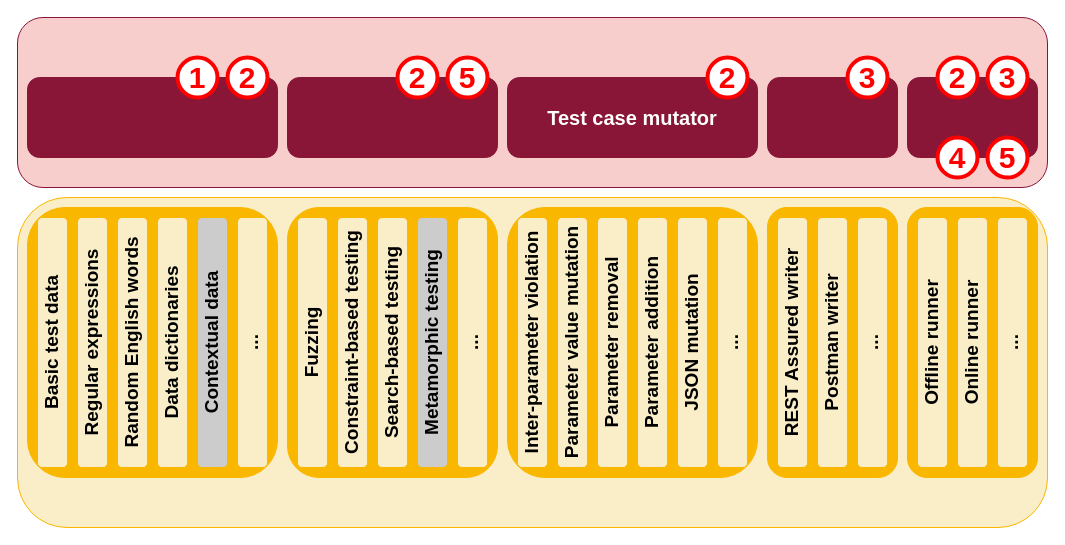
Some shapes in this 1065 by 545 pixel diagram are drawn without their labels. The box of each missing label's shape, as (x1, y1, x2, y2) in pixels:
RESTest core: (16, 16, 1048, 188)
RESTest extensions: (16, 196, 1048, 528)
Test case generators: (286, 76, 498, 158)
Test data generators: (26, 76, 278, 158)
Test runners: (906, 76, 1038, 158)
Test writers: (766, 76, 898, 158)
